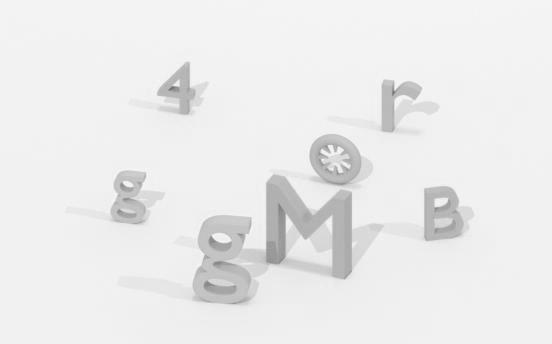chu_khoi: (266, 175, 352, 278), (193, 215, 251, 303), (424, 186, 463, 240), (381, 80, 421, 131), (110, 170, 146, 223)
dia_sao: (309, 134, 361, 183)
so_khoi: (157, 62, 195, 113)
